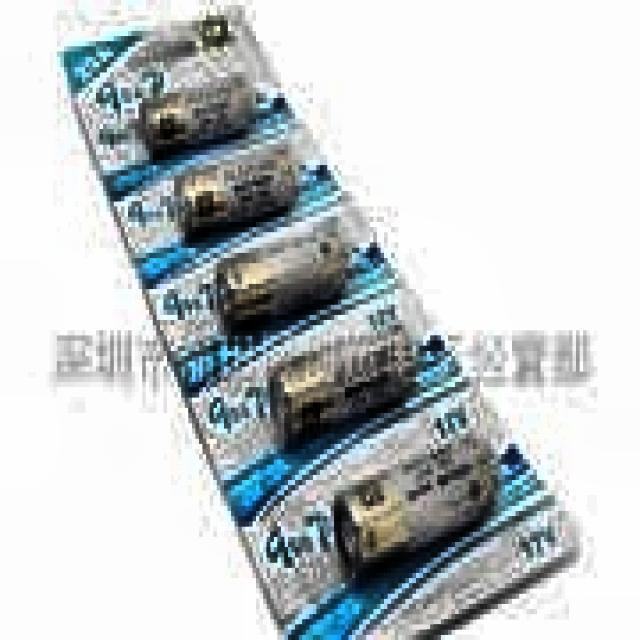battery: (335, 434, 495, 576), (271, 298, 414, 446), (218, 216, 345, 325), (179, 145, 298, 233), (142, 76, 254, 153)
